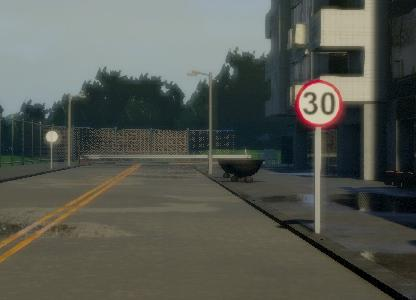Speed_30: (296, 73, 347, 126)
